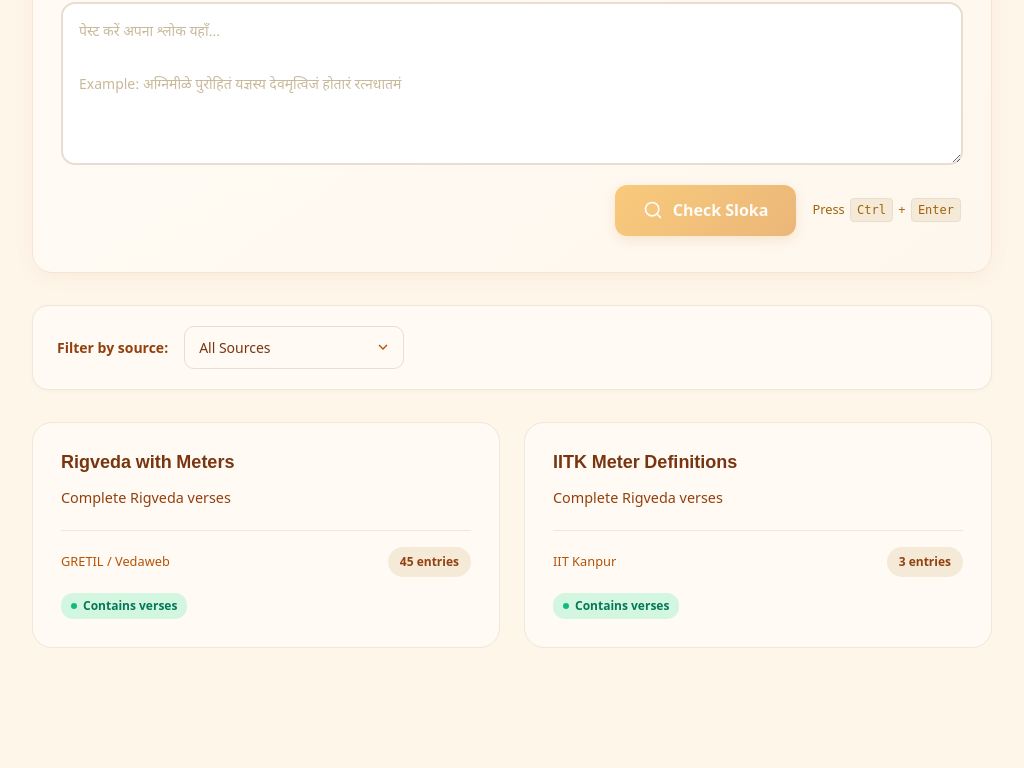
Test case: DatasetsView › says when a dataset fails to load
(page scrolled)
Click the heading "Rigveda with Meters": (148, 463) [61, 452, 234, 475]
(page scrolled)
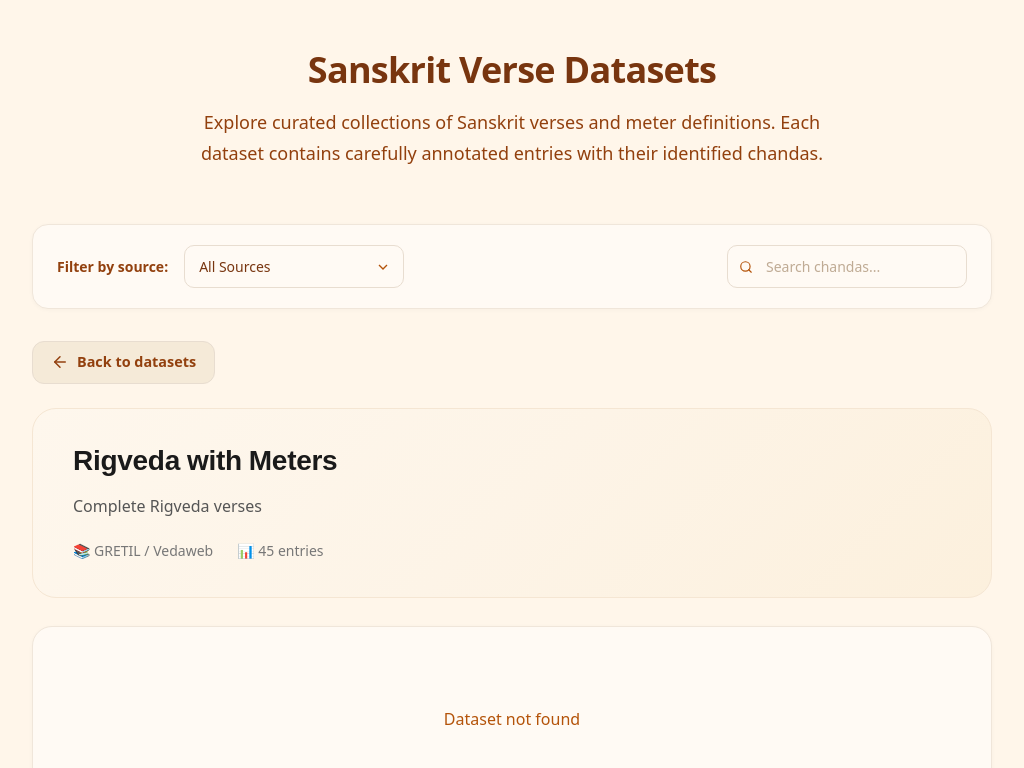
expect the text "Dataset not found" is shown: met, box [444, 708, 580, 730]
